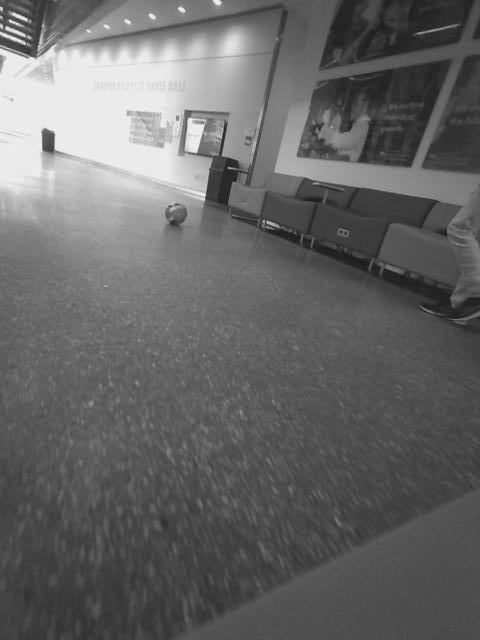ball: (162, 199, 190, 227)
